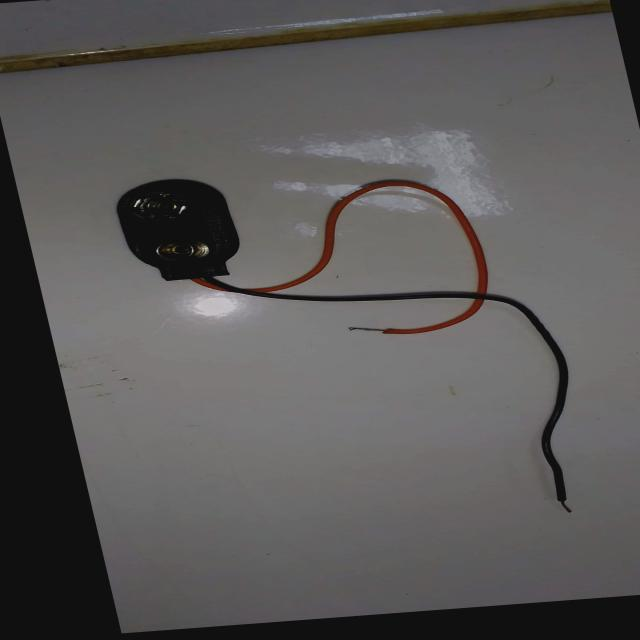Battery Holder: (85, 146, 515, 354)
